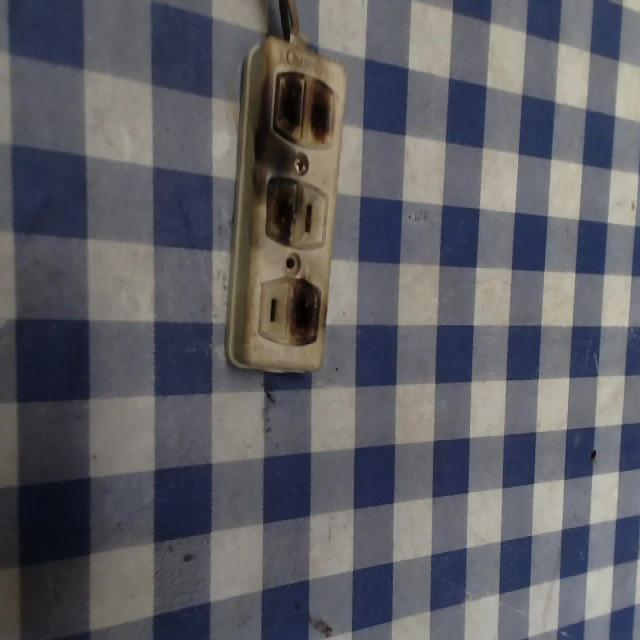-: (271, 68, 336, 148), (261, 170, 304, 250), (286, 276, 324, 348)
